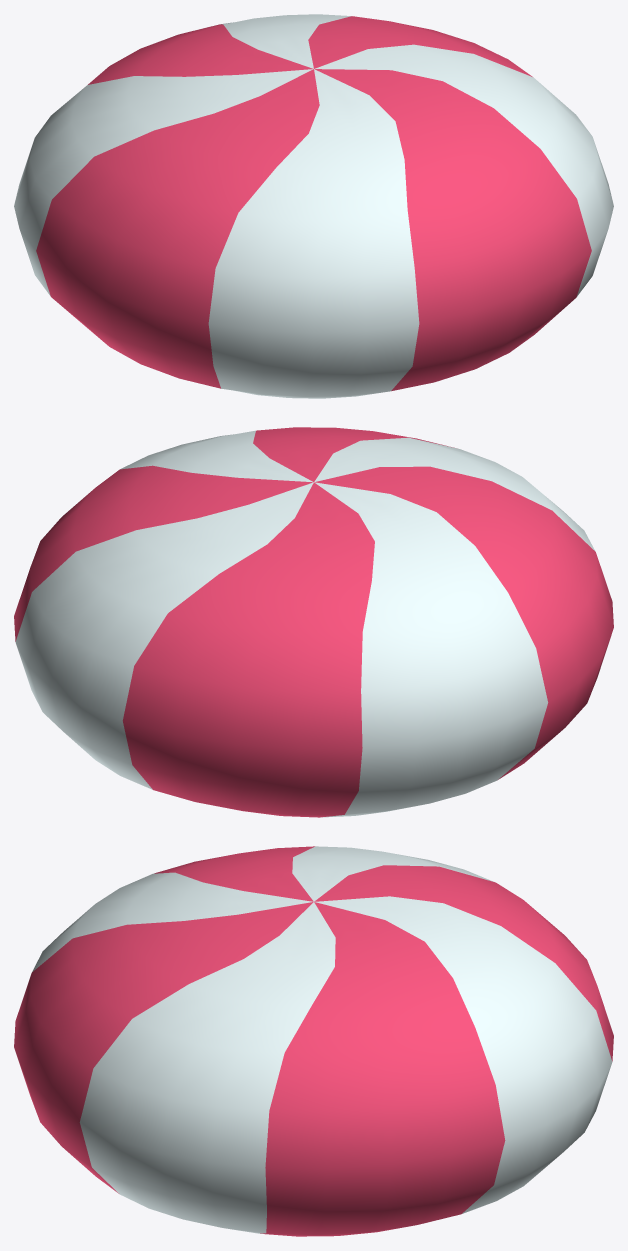
The model's file is Mint_A_02.fbx.
3 views of the same model, one above another, from view 1: azimuth 30°, elevation 25°; view 2: azimuth 150°, elevation 25°; view 3: azimuth 270°, elevation 25° (orthographic).
Parts seen in each view (by area): view 1: Mint_A_02_LOD0; view 2: Mint_A_02_LOD0; view 3: Mint_A_02_LOD0.
Boxes of the visible parts, bbox=[...] form: Mint_A_02_LOD0: bbox=[14, 14, 613, 398]; Mint_A_02_LOD0: bbox=[14, 427, 613, 817]; Mint_A_02_LOD0: bbox=[14, 846, 613, 1236].
Size of what is drawn, in the model's own units: 420 by 216 by 420.
